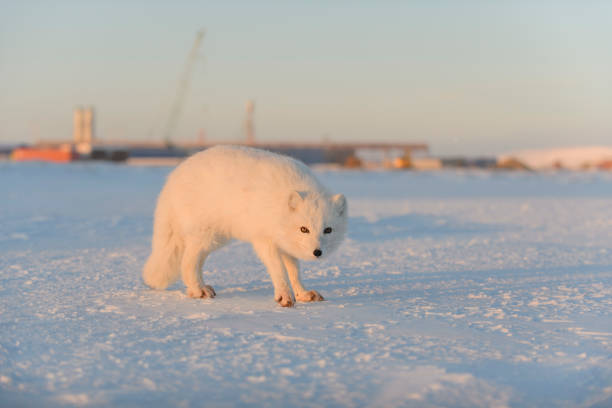arcticfox: (290, 193, 343, 263)
